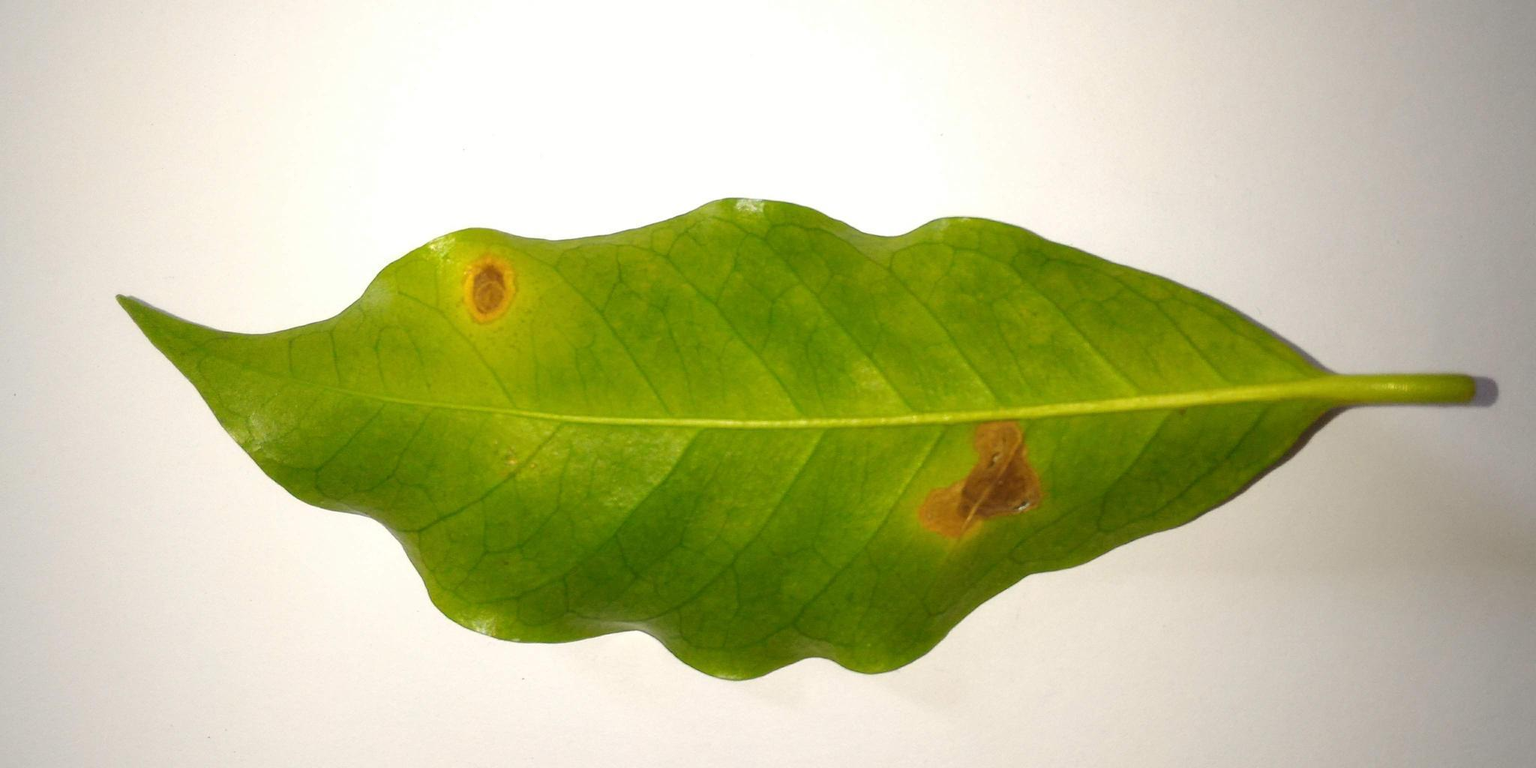Miner: (910, 405, 1056, 546)
